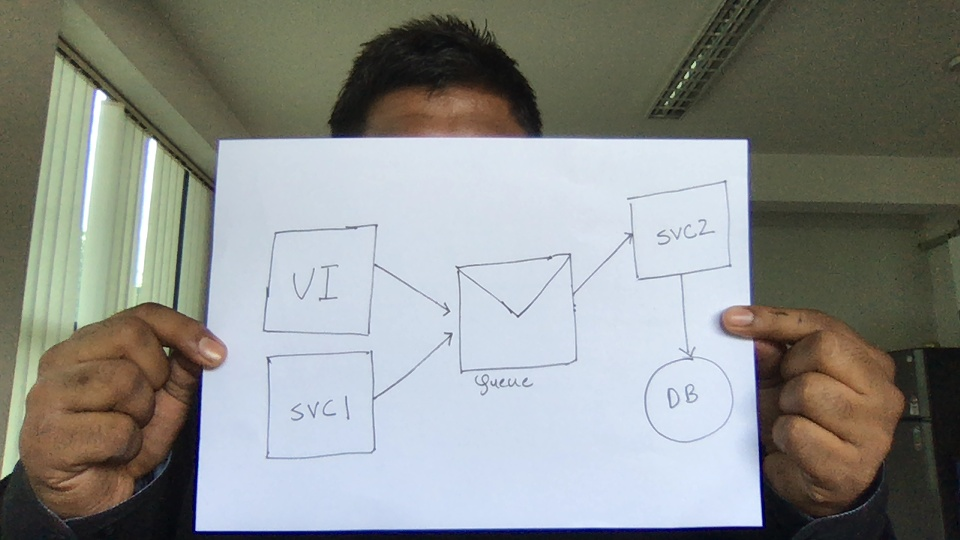db: (640, 353, 736, 443)
ec2: (257, 347, 385, 468), (615, 166, 743, 287)
sns: (448, 252, 585, 376)
ui: (260, 220, 383, 341)
